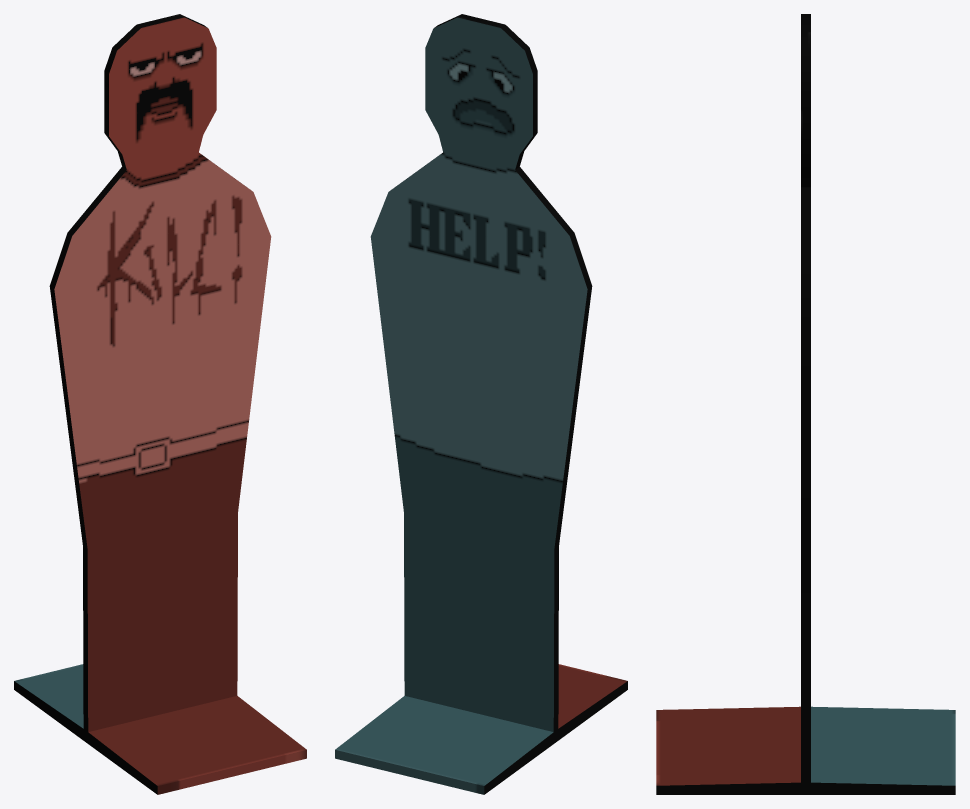
The model's file is Target1.fbx.
The picture shows the model from 3 angles, left to right: view 1: azimuth 30°, elevation 25°; view 2: azimuth 150°, elevation 25°; view 3: azimuth 270°, elevation 25°; orthographic projection. The views are drawn at different scales.
Parts seen in each view (by area): view 1: Cube.003, Cube.002, Cube.001, Cube.004; view 2: Cube.003, Cube.002, Cube.001, Cube.004; view 3: Cube.001, Cube.003, Cube.002, Cube.004.
Part boxes in pixels (box(x1,y1,x2,y2)): Cube.003: box(49, 152, 271, 549); Cube.002: box(83, 512, 237, 731); Cube.001: box(14, 664, 306, 794); Cube.004: box(104, 14, 216, 169); Cube.003: box(370, 152, 592, 549); Cube.002: box(404, 512, 558, 731); Cube.001: box(335, 664, 627, 794); Cube.004: box(425, 14, 537, 169); Cube.001: box(656, 706, 955, 794); Cube.003: box(801, 187, 810, 592); Cube.002: box(801, 592, 810, 782); Cube.004: box(801, 14, 810, 187).
Bounding box in the file's own units: 200 × 620 × 230.
